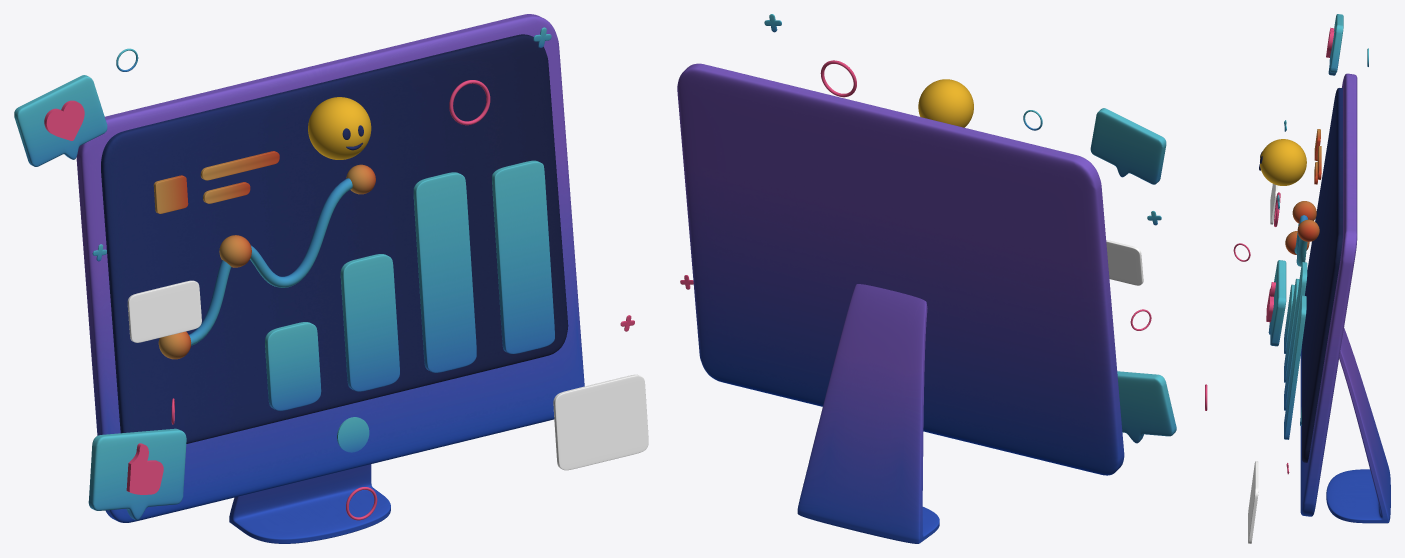
The model's file is website-traffic-3d-animated-icon-292784225895.glb.
3 renders of one model, left to right at view 1: azimuth 30°, elevation 25°; view 2: azimuth 150°, elevation 25°; view 3: azimuth 270°, elevation 25°, orthographic. The views are drawn at different scales.
Parts seen in each view (by area): view 1: Cube.002, Cube.003, Cube.014, Cube.023, Cube.008, Cube.007, Cube.005, Cube.010, Cube.009, Cube.001, Cube.006, NurbsPath.002 (+5 smaller); view 2: Cube.003, Cube.008, Cube.009, Cube.007, Sphere.004, Cube.006; view 3: Cube.002, Cube.003, Cube.008, Sphere.004, Cube.007, Cube.023, Cube.014, Cube.009, Cube.005, Cube.010, Sphere.002, Sphere (+3 smaller).
Boxes of the visible parts, x1,y1,x2,y2 form: Cube.002: (101, 34, 568, 443); Cube.003: (76, 14, 584, 522); Cube.014: (413, 172, 476, 372); Cube.023: (492, 160, 554, 353); Cube.008: (229, 464, 390, 543); Cube.007: (88, 428, 186, 520); Cube.005: (553, 374, 648, 470); Cube.010: (340, 254, 399, 391); Cube.009: (14, 75, 107, 166); Cube.001: (265, 322, 321, 410); Cube.006: (127, 280, 201, 342); NurbsPath.002: (189, 178, 352, 345); Cube.003: (677, 63, 1124, 475); Cube.008: (797, 284, 939, 543); Cube.009: (1090, 108, 1166, 184); Cube.007: (1117, 371, 1176, 443); Sphere.004: (918, 79, 973, 127); Cube.006: (1106, 239, 1143, 285); Cube.002: (1302, 88, 1342, 462); Cube.003: (1300, 73, 1357, 516); Cube.008: (1326, 328, 1390, 523); Sphere.004: (1260, 139, 1306, 185); Cube.007: (1266, 260, 1286, 346); Cube.023: (1284, 295, 1306, 439); Cube.014: (1284, 262, 1307, 410); Cube.009: (1326, 14, 1343, 75); Cube.005: (1248, 461, 1258, 543); Cube.010: (1284, 278, 1299, 382); Sphere.002: (1297, 219, 1319, 241); Sphere: (1292, 201, 1316, 223).
Size of the model in its own units: 7.18 by 6.05 by 2.65.
11 materials, 7 textured.
